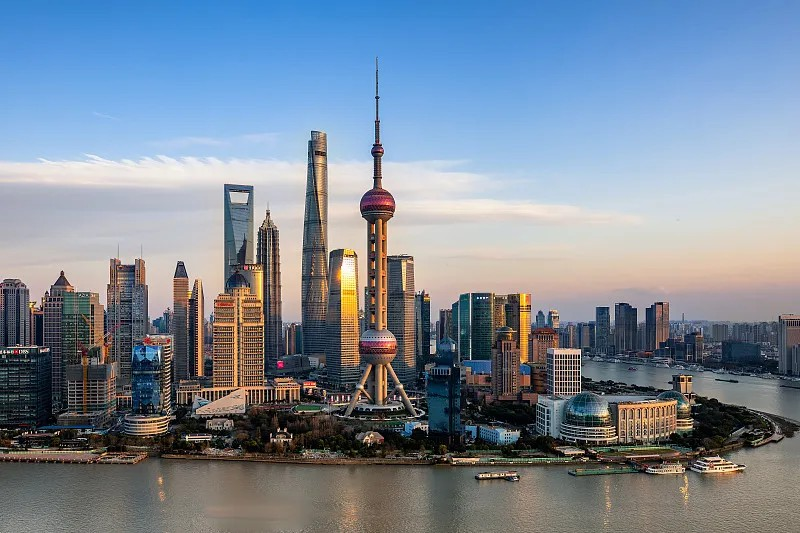Oriental: (343, 57, 418, 417)
